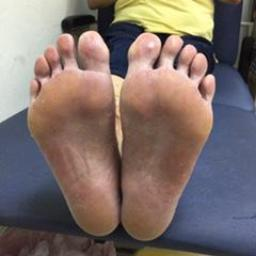Plantar View -Both Feet-: (15, 20, 225, 246)
